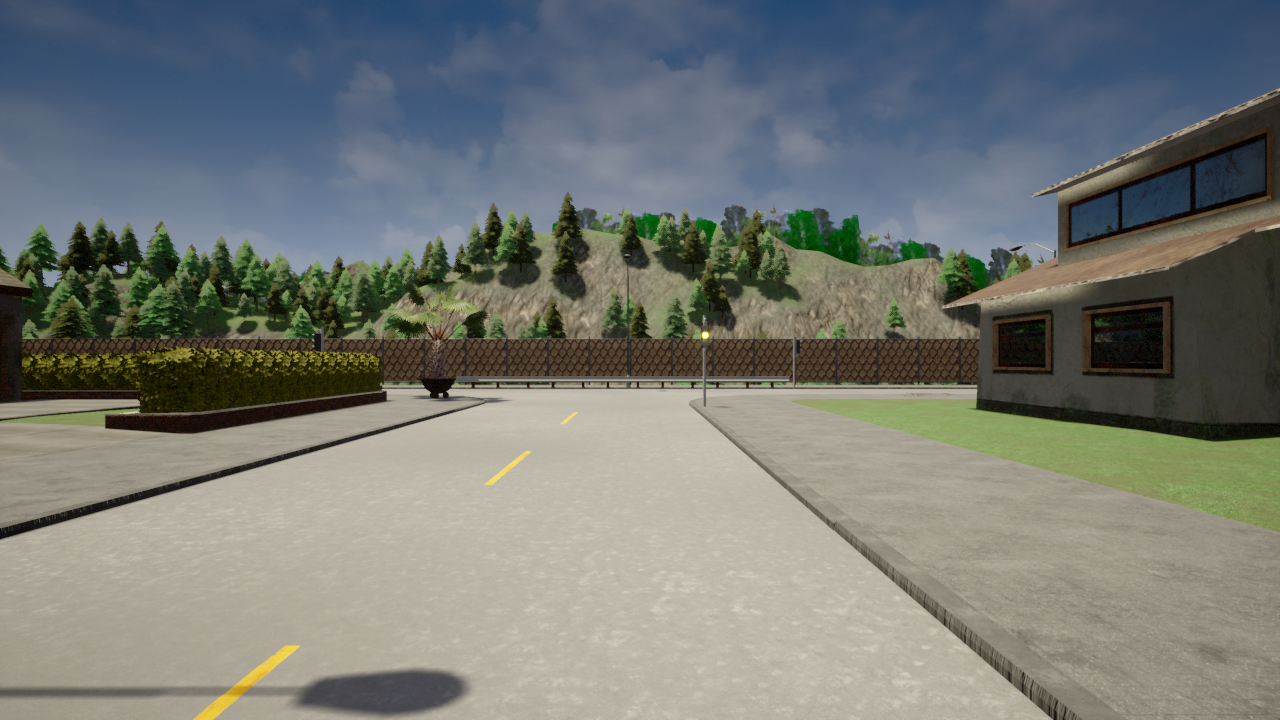yellow: (699, 323, 711, 348)
